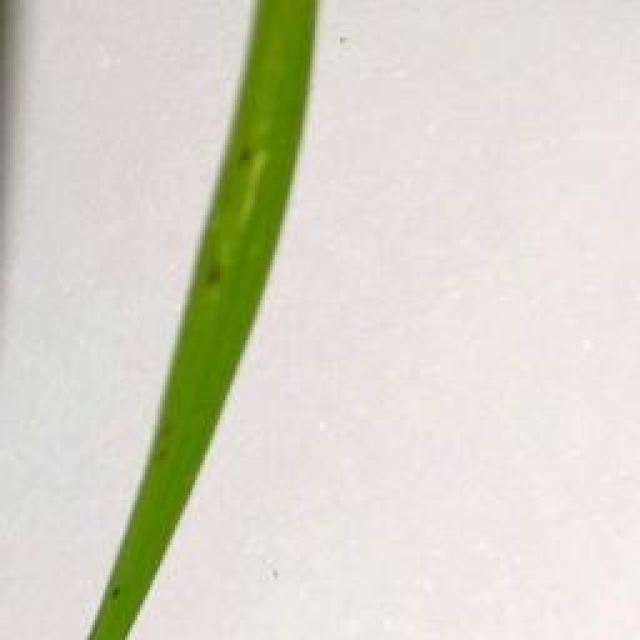Brown_Spot: (198, 253, 226, 293), (107, 574, 127, 607), (232, 142, 256, 163)
